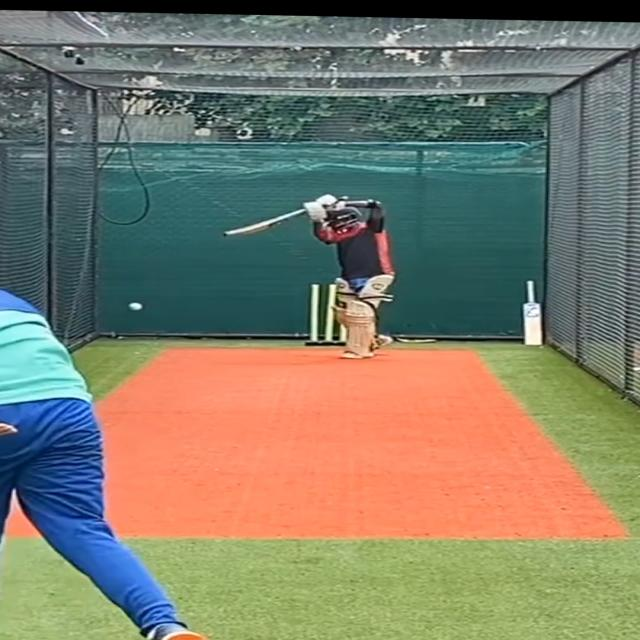ball: (124, 300, 146, 312)
stump: (306, 281, 351, 347)
